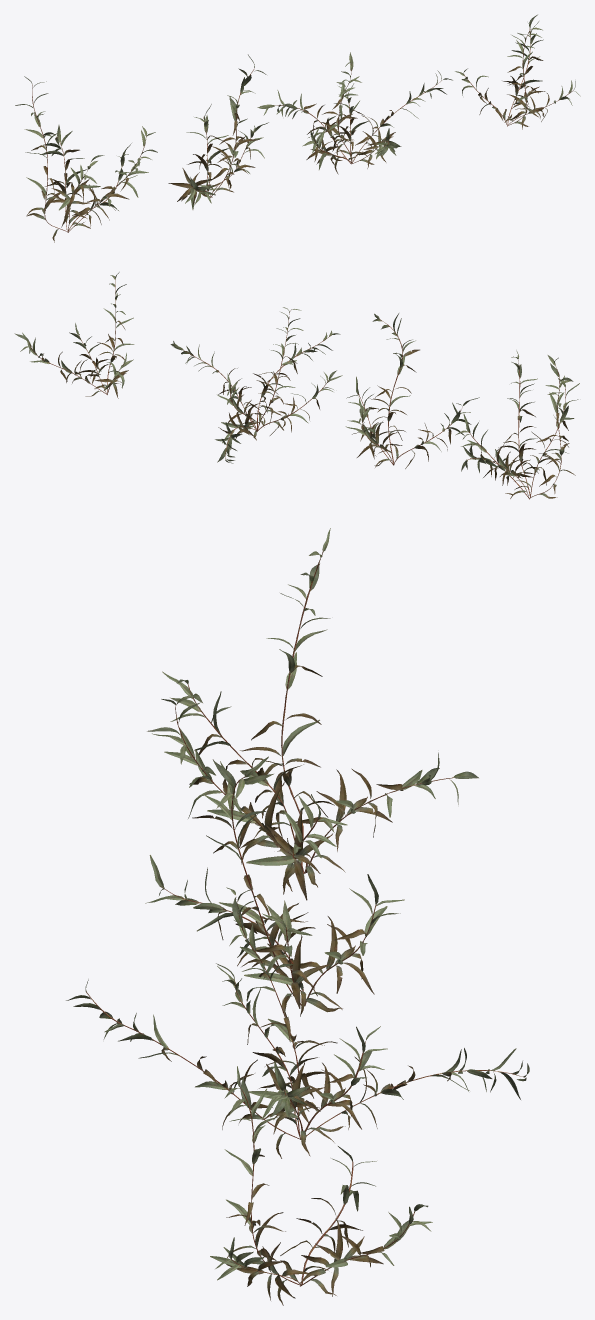
Rendered from shrub_02.glb.
3 renders of one model, top to bottom at view 1: azimuth 30°, elevation 25°; view 2: azimuth 150°, elevation 25°; view 3: azimuth 270°, elevation 25°, orthographic. The views are drawn at different scales.
Visible parts, largest first — view 1: shrub_02_a; view 2: shrub_02_a; view 3: shrub_02_a.
Part boxes in pixels (<box>): shrub_02_a: <box>15,14,580,242</box>; shrub_02_a: <box>14,272,579,499</box>; shrub_02_a: <box>66,528,529,1305</box>.
Bounding box in the file's own units: 6.05 × 1.7 × 2.29.
1 material, 1 textured.
